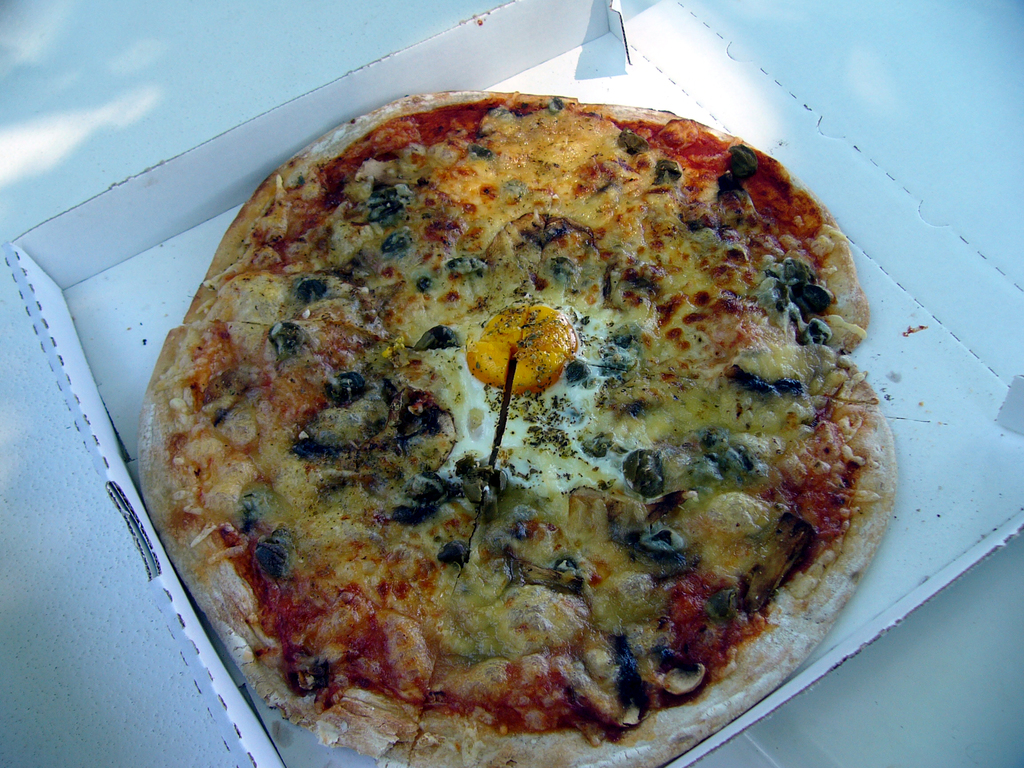Pizza: (138, 85, 899, 767)
